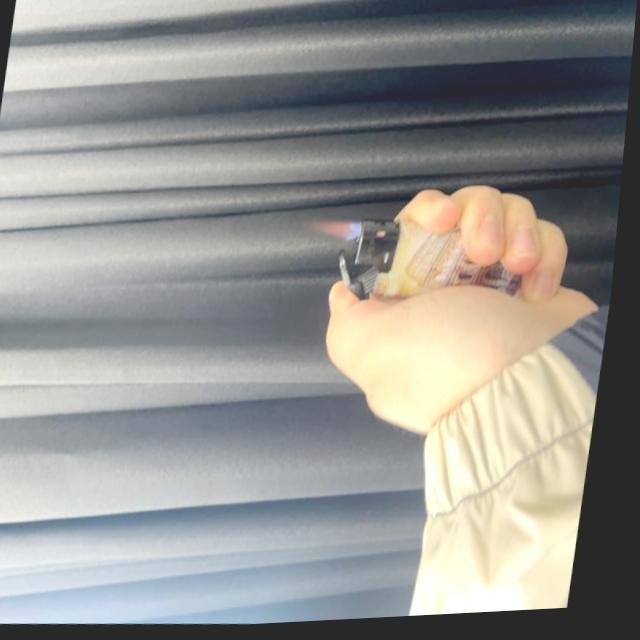helmet: (312, 216, 367, 249)
